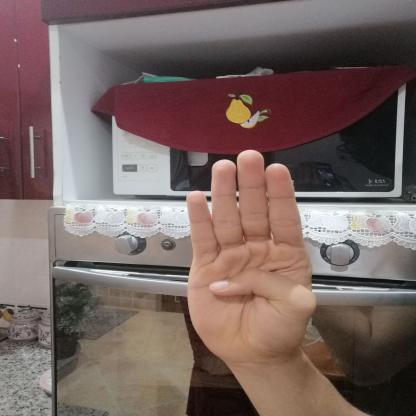KAAF: (168, 140, 334, 378)
